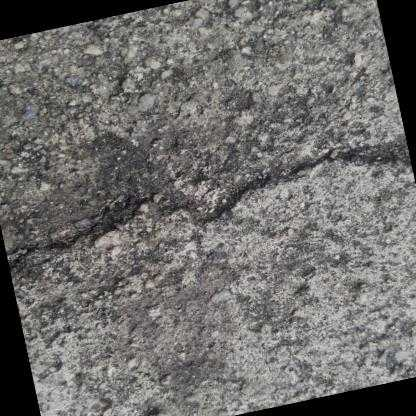crack: (5, 147, 413, 269)
